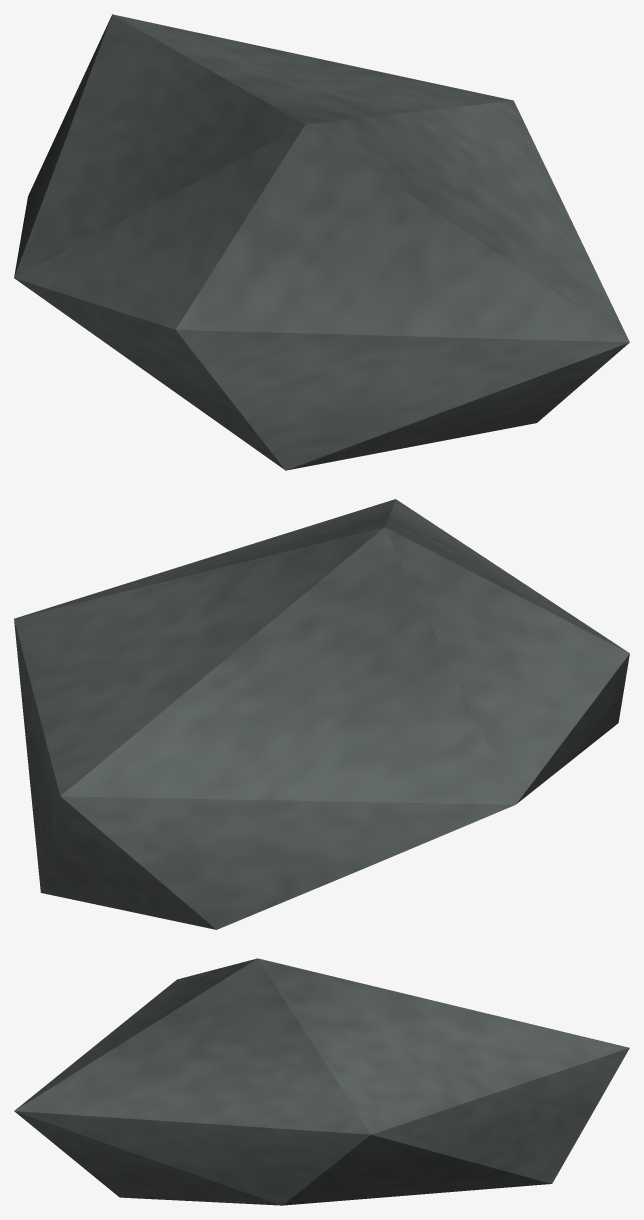
The model's file is rocks.reef_rock.lod2.glb.
3 renders of one model, top to bottom at view 1: azimuth 30°, elevation 25°; view 2: azimuth 150°, elevation 25°; view 3: azimuth 270°, elevation 25°, orthographic. The views are drawn at different scales.
Visible parts, largest first — view 1: ReefRock; view 2: ReefRock; view 3: ReefRock.
Boxes of the visible parts, left/top/right/bottom form: ReefRock: left=14, top=14, right=629, bottom=470; ReefRock: left=14, top=499, right=629, bottom=929; ReefRock: left=14, top=958, right=629, bottom=1205.
Bounding box in the file's own units: 2.84 × 1.64 × 4.2.
1 material, 1 textured.
